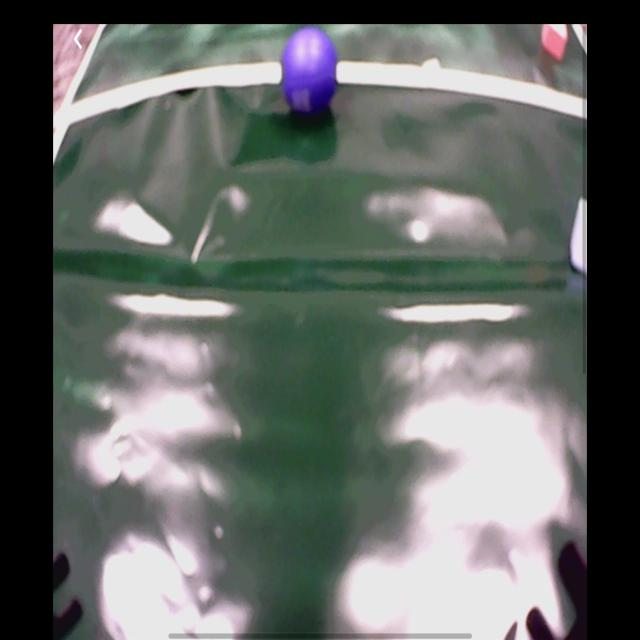ball: (281, 30, 339, 118)
